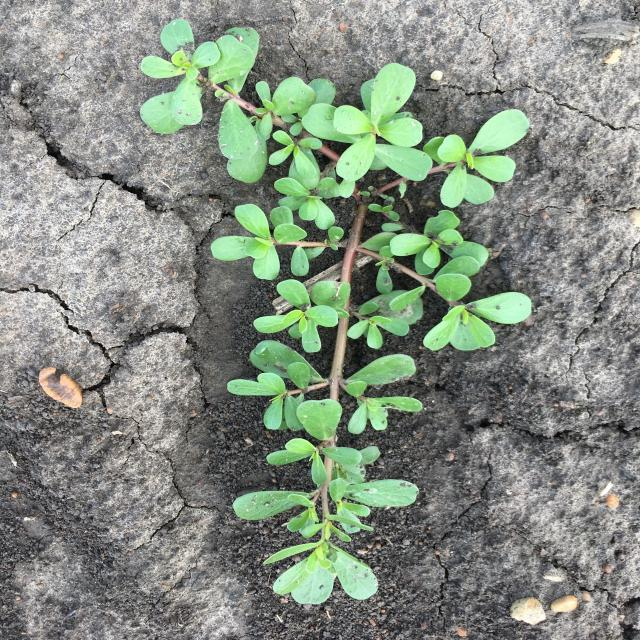Purslane: (140, 18, 531, 605)
